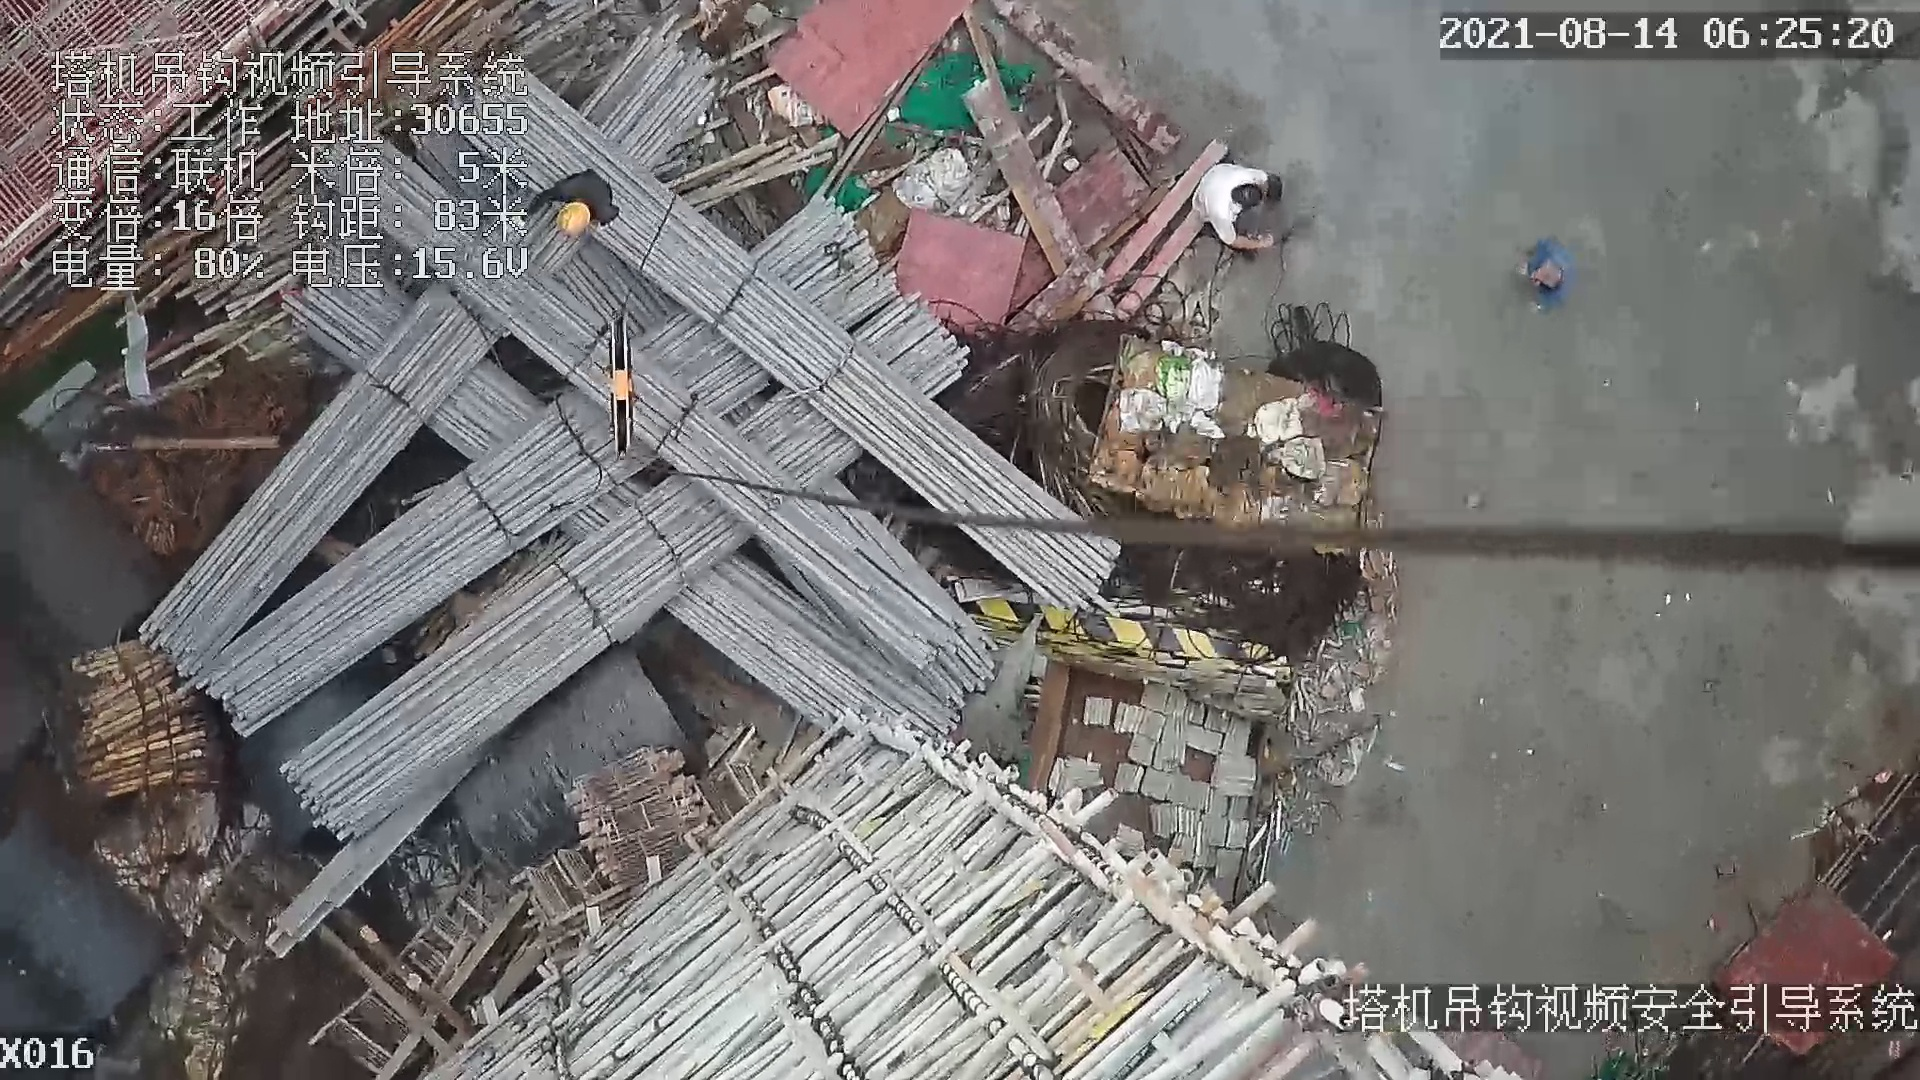helmet: (558, 203, 591, 238)
hook: (591, 310, 644, 462)
person: (1191, 159, 1285, 251), (527, 169, 623, 239), (1506, 239, 1588, 314)
